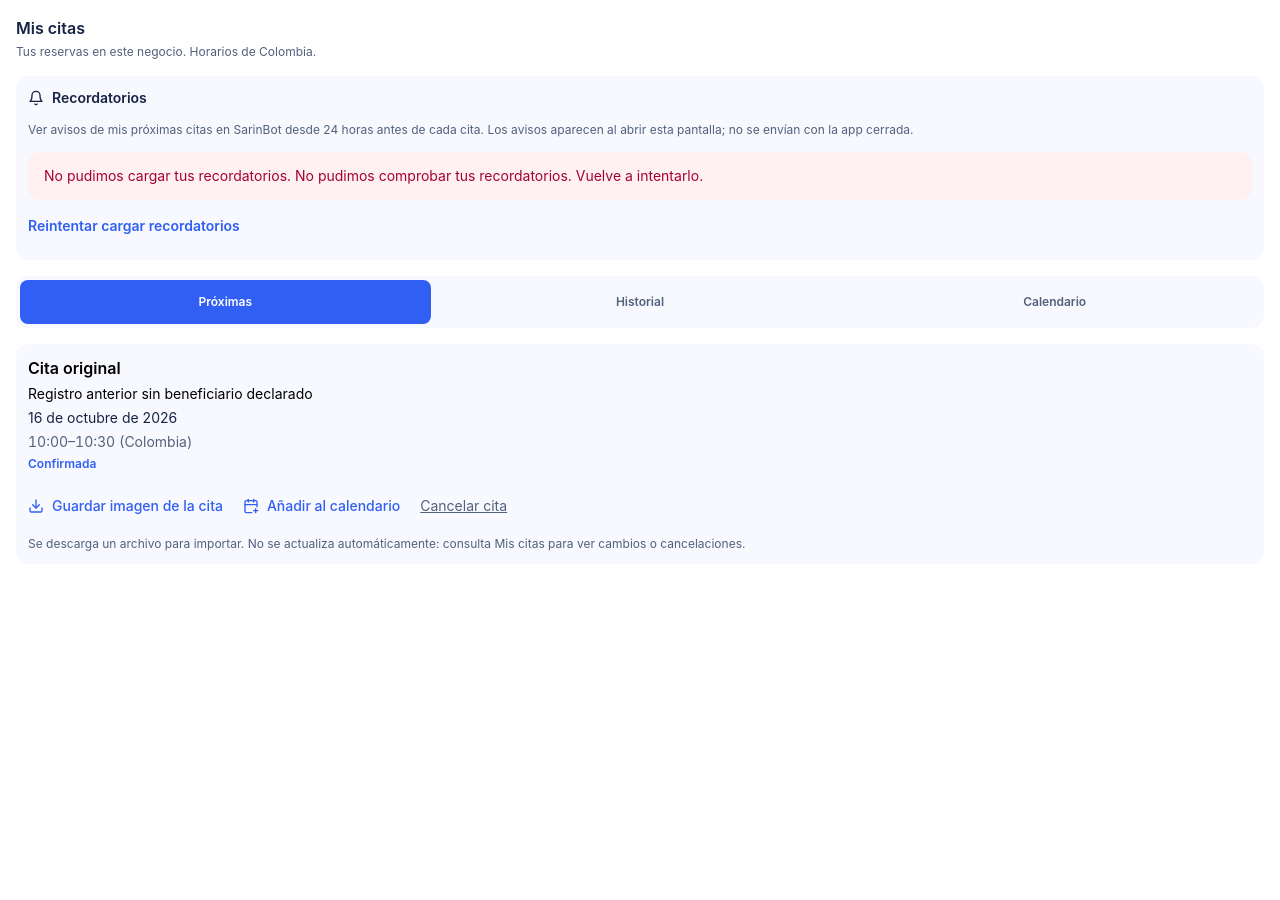
Scenario: the customer's appointments within one business › does not claim a cancellation succeeded if the server returns a different customer's appointment
Click the button "Cancelar cita": (464, 506) 420,484 -> 507,528
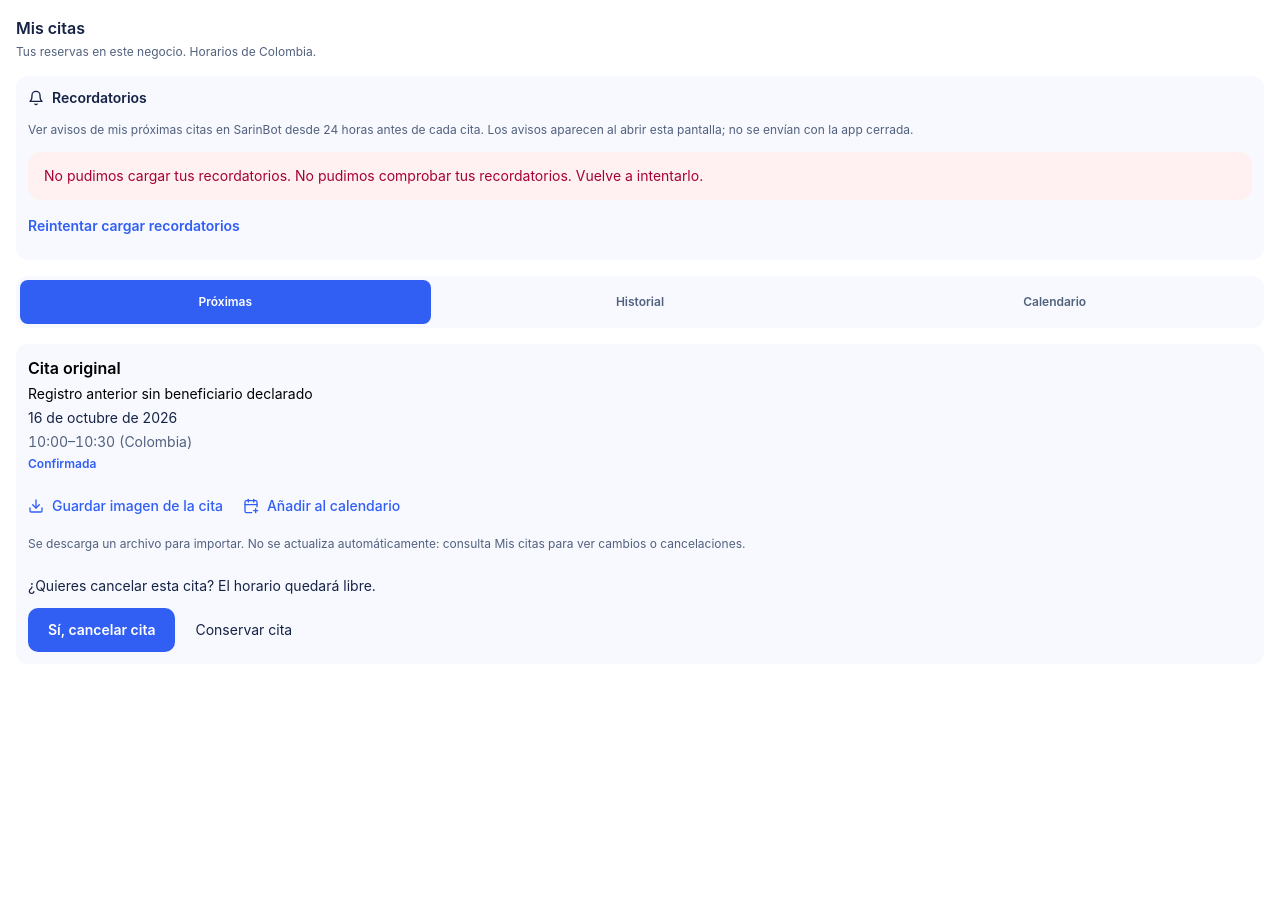
Click the button "Sí, cancelar cita": (102, 630) 28,608 -> 176,652
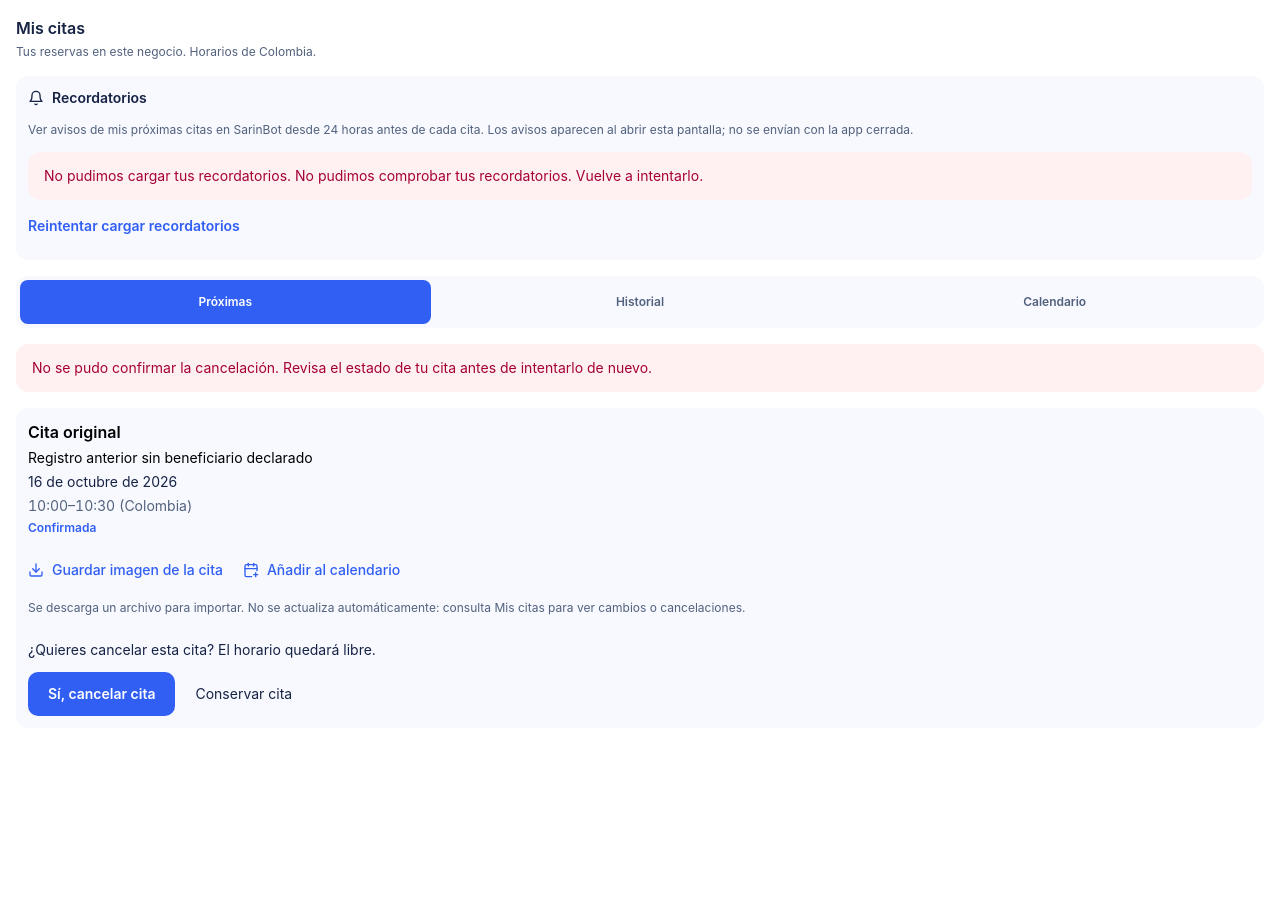
Expected: the text "No se pudo confirmar la cancelación" is shown, 32,358 -> 652,376
